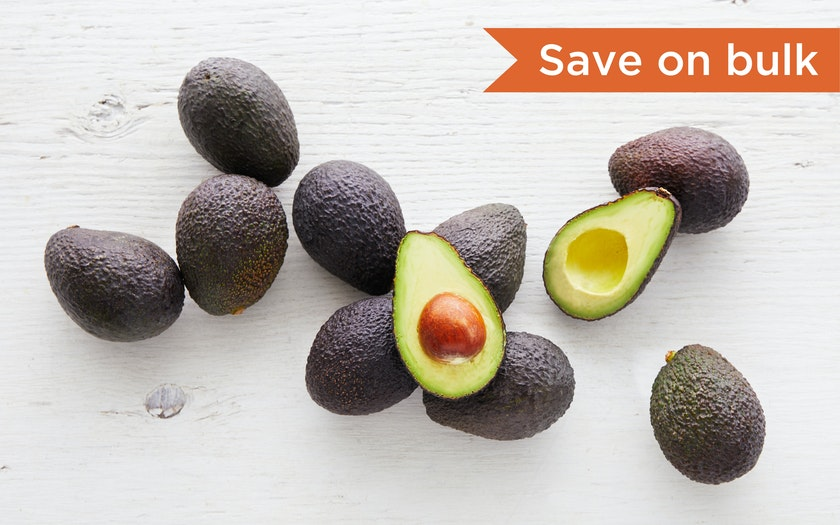fit_avocado: (26, 201, 187, 359), (278, 148, 411, 291), (160, 176, 295, 316), (423, 328, 567, 454), (159, 61, 304, 181)
